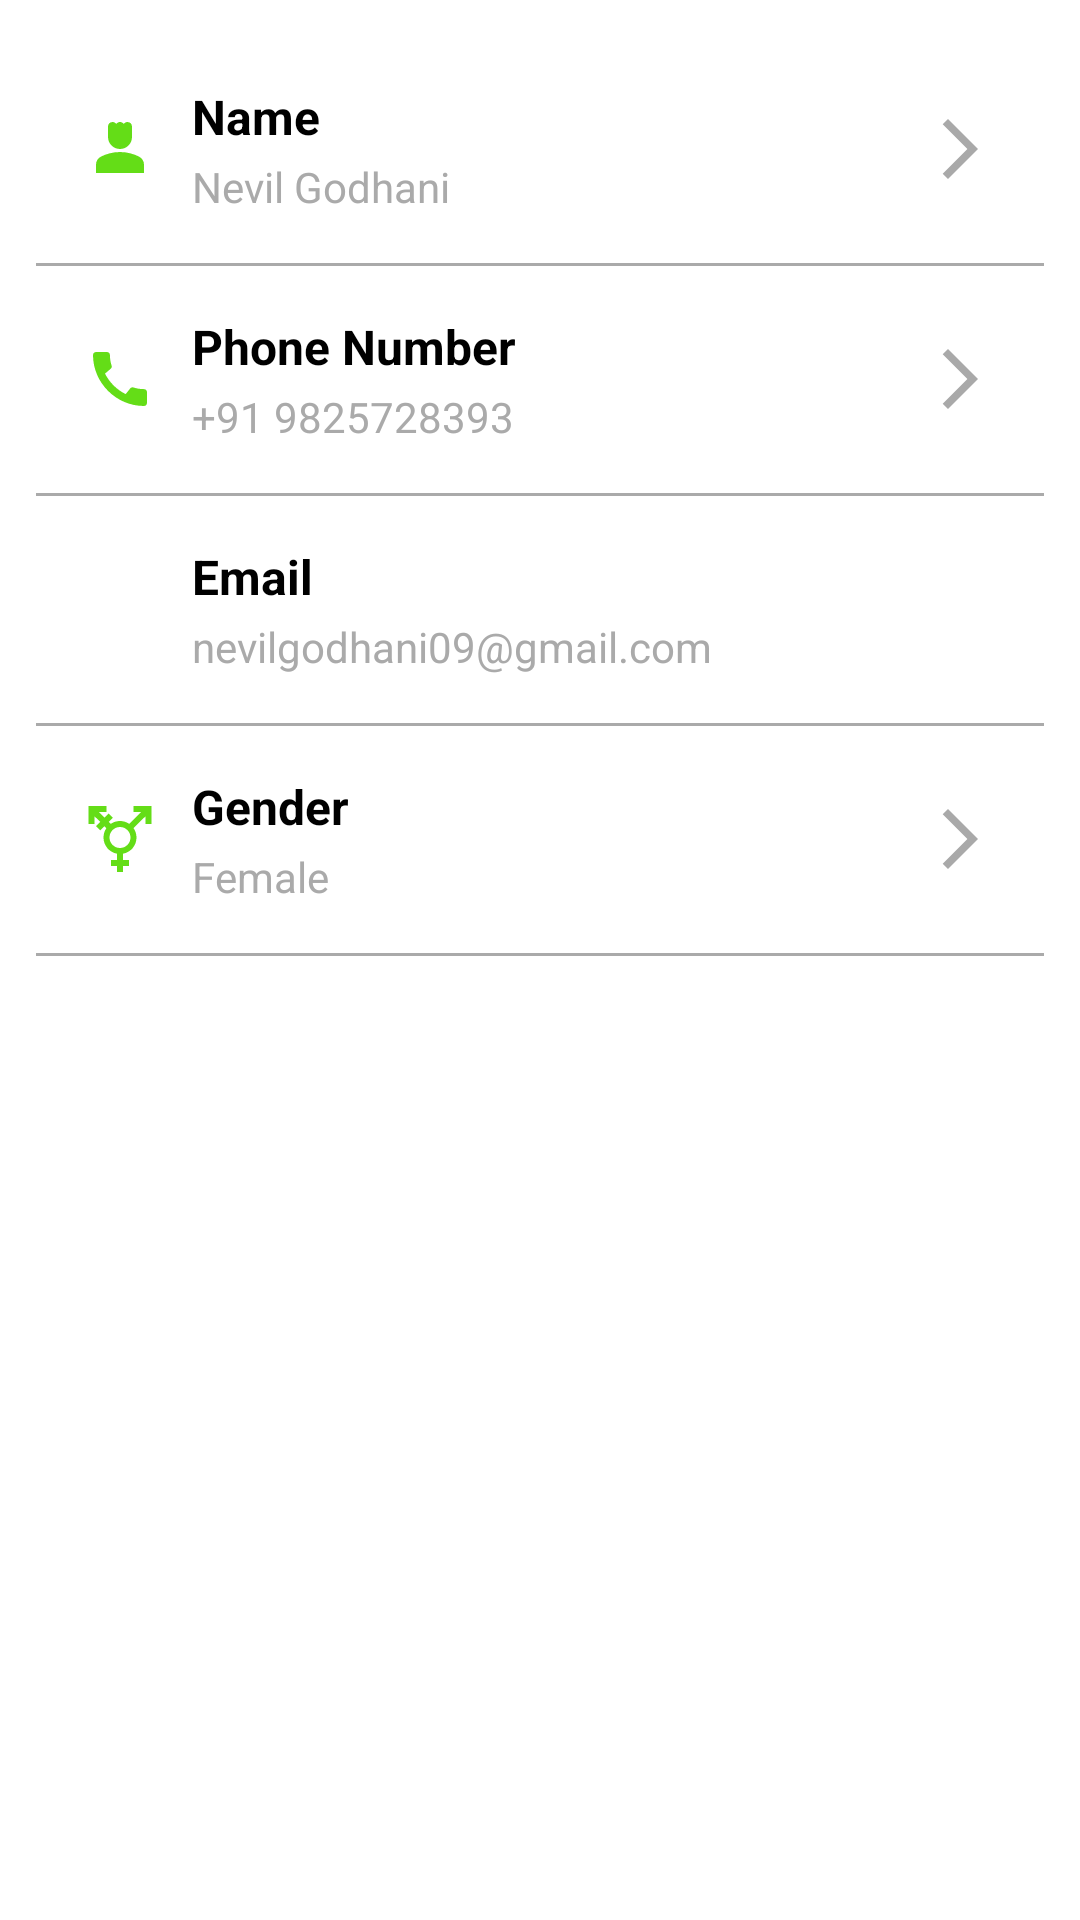

Icon bounding boxes for this 1080 × 1920 phone screenshot, format BBox(x1, y1, x2, y2):
arrow forward: BBox(943, 119, 978, 179), BBox(943, 349, 978, 409), BBox(943, 809, 978, 869)
call: BBox(93, 352, 147, 406)
person: BBox(96, 122, 144, 173)
